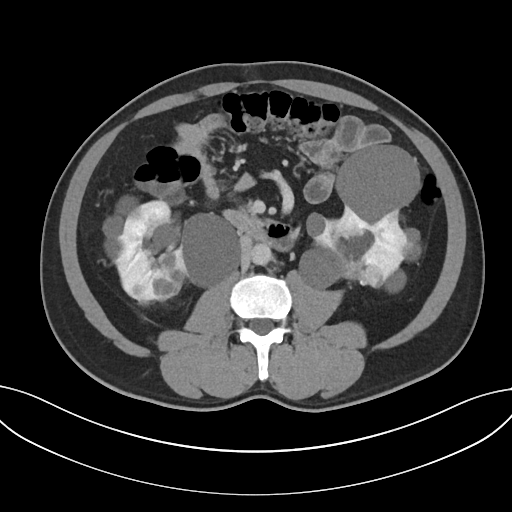Lesion: (359, 263, 386, 292)
